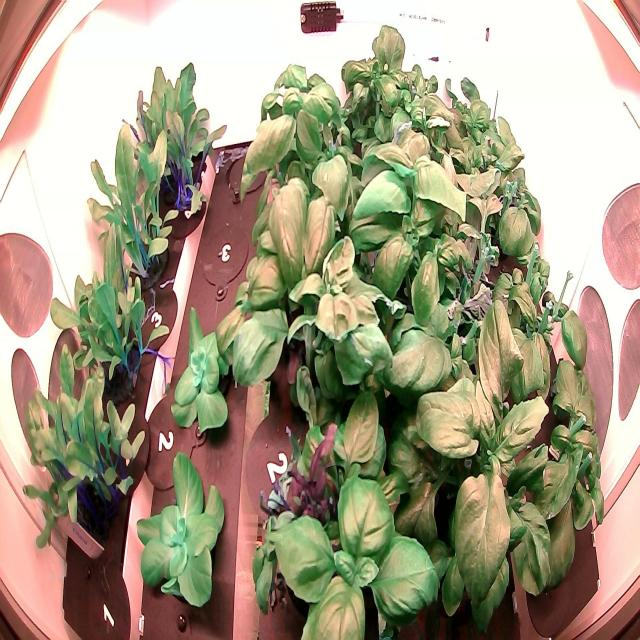empty_pod: (193, 205, 255, 304), (222, 132, 274, 210)
young: (126, 448, 233, 612), (167, 299, 244, 436)
